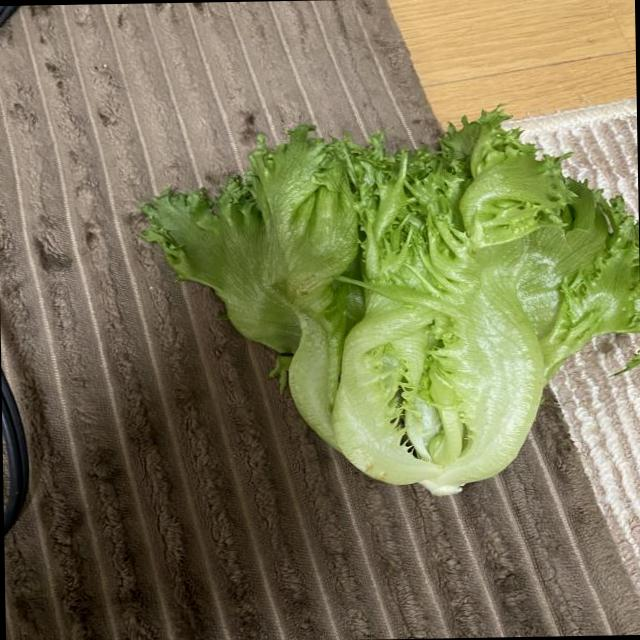Lettuce-Ready-to-Harvest: (143, 109, 640, 493)
